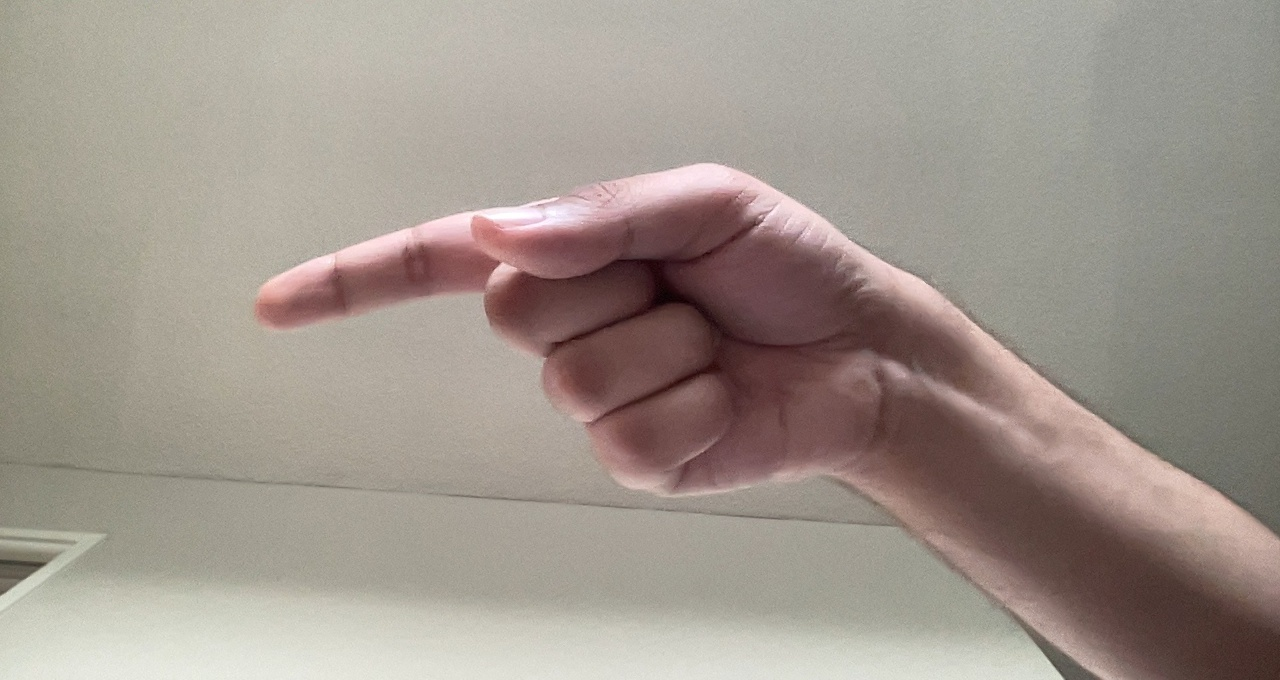fingerright: (242, 155, 887, 502)
